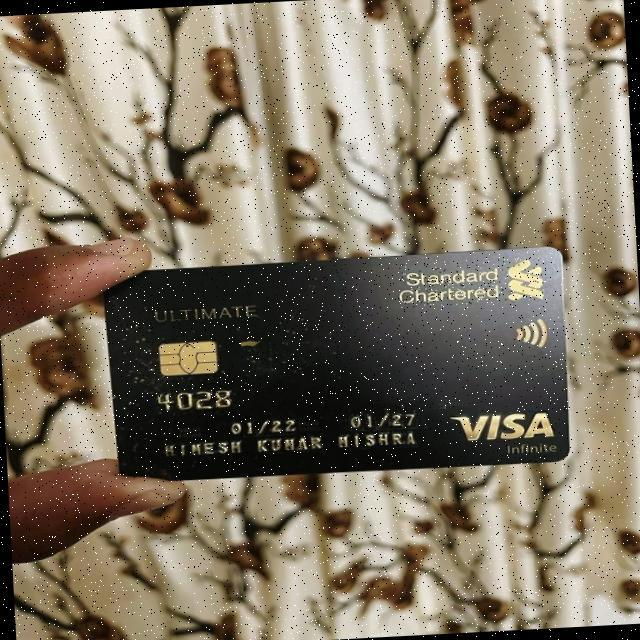Standard Chartered: (398, 257, 544, 308)
